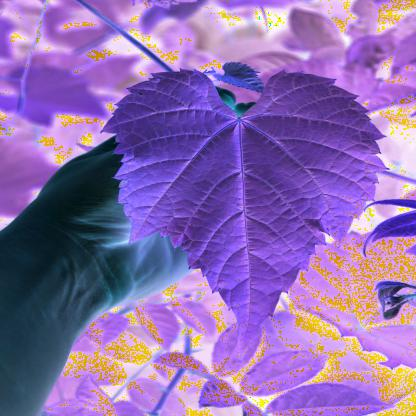grape leaf: (99, 69, 388, 357)
